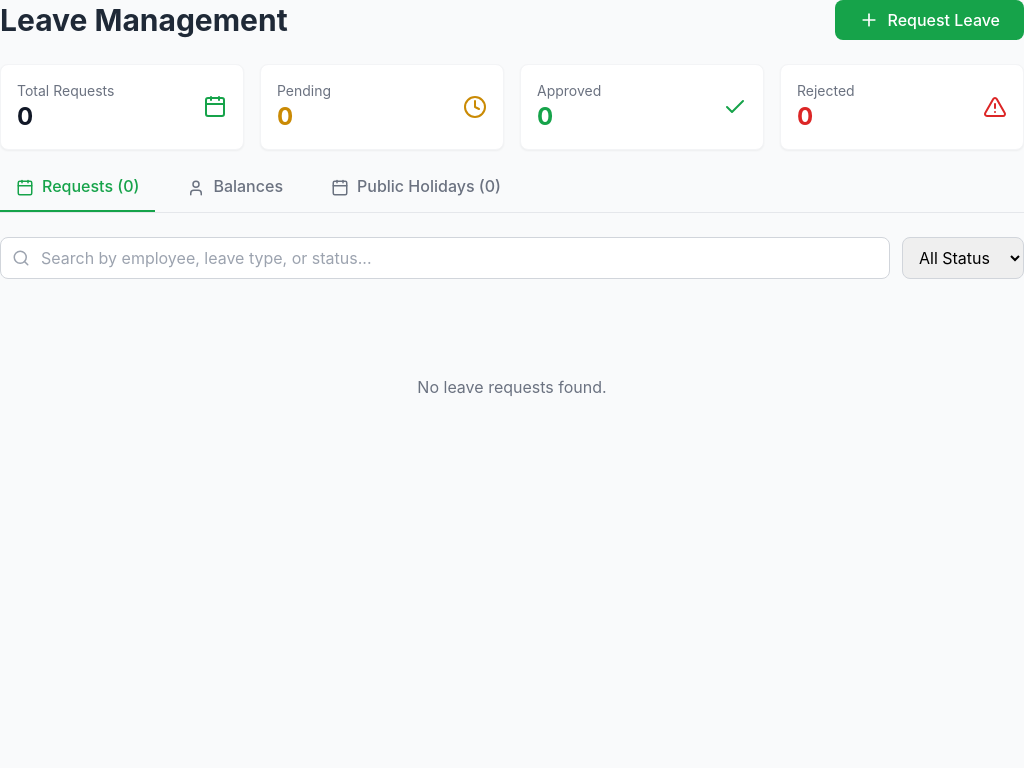
Scenario: LeaveManagement › opens leave request form when button clicked
What coordinates should you click on to do the following:
click the button with test id "request-leave-btn"
I would click on:
 (930, 20)
Its box is [836,0,1023,40].
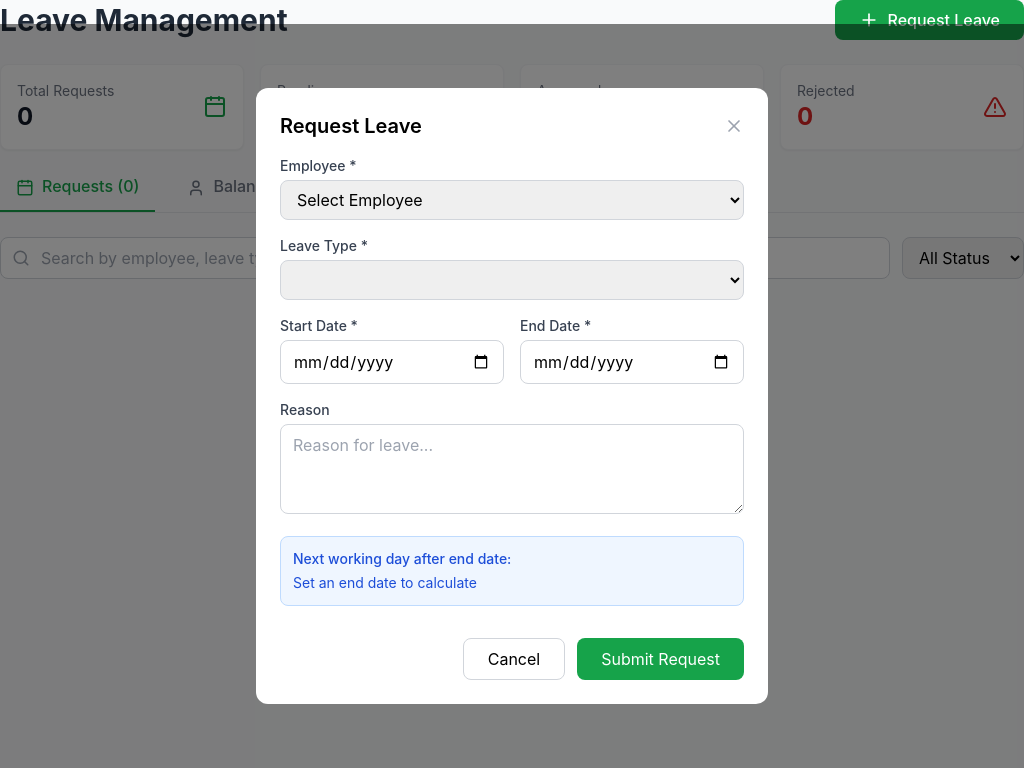
Check: the heading "Request Leave" is shown, box [280,112,422,140]
Check: the dropdown labelled "Leave Type *" is shown, box [280,260,744,300]
